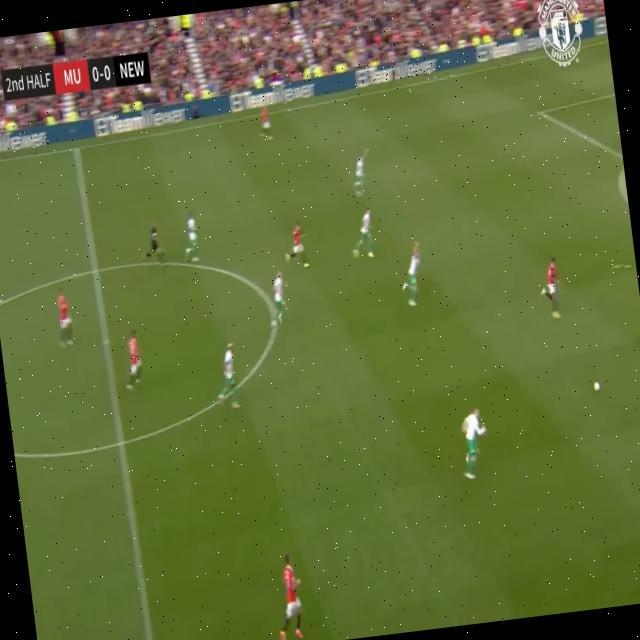TeamViewer: (474, 26, 563, 63), (230, 79, 318, 113), (353, 54, 439, 88), (95, 105, 188, 136), (0, 128, 48, 155)
